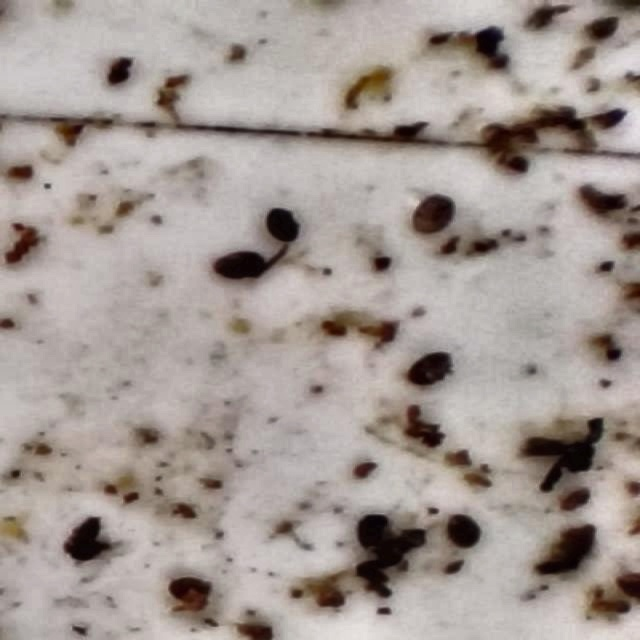varroa: (409, 193, 454, 237), (406, 351, 454, 390), (209, 252, 268, 283), (265, 209, 303, 246), (444, 514, 482, 550), (355, 515, 393, 551)
